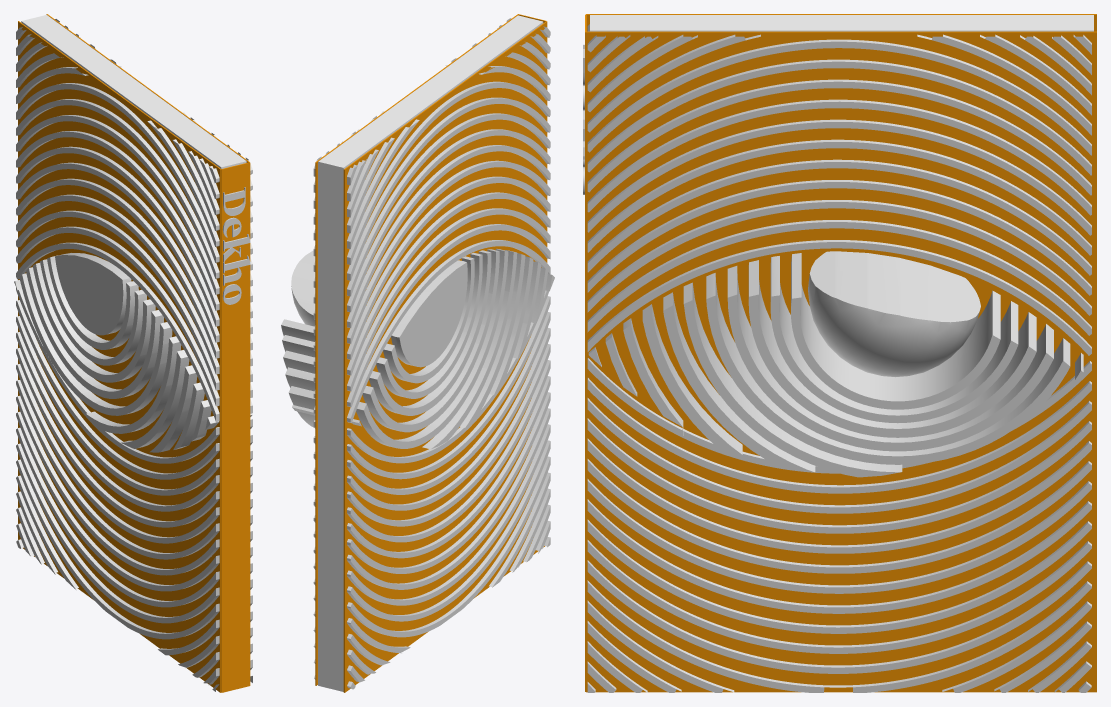
Rendered from dekho6.glb.
The picture shows the model from 3 angles, left to right: view 1: azimuth 30°, elevation 25°; view 2: azimuth 150°, elevation 25°; view 3: azimuth 270°, elevation 25°; orthographic projection. The views are drawn at different scales.
Visible parts, largest first — view 1: Eyes 0.1 (×2), Cube.2, Cube.3, Extrude.2 (×2), Tube.6, Cube.1, Cube (×3); view 2: Eyes 0.1, Cube.2, Cube.1, Extrude.2 (×2), Tube.6, Boole, Cube (×2); view 3: Cube, Eyes 0.1, Boole, Cube.1.
Part boxes in pixels (x1,y1,x2,y2): Eyes 0.1 (×2): (16,19,252,691); Cube.2: (18,21,221,692); Cube.3: (221,162,250,692); Extrude.2 (×2): (14,253,218,452); Tube.6: (15,255,218,451); Cube.1: (21,15,246,168); Cube (×3): (46,14,252,676); Eyes 0.1: (347,26,550,689); Cube.2: (343,21,547,692); Cube.1: (318,15,543,691); Extrude.2 (×2): (352,249,554,448); Tube.6: (356,249,552,449); Boole: (281,250,315,427); Cube (×2): (315,14,518,685); Cube: (586,31,1096,692); Eyes 0.1: (587,34,1091,692); Boole: (588,251,1083,477); Cube.1: (590,15,1093,31).
Bounding box in the file's own units: 0.4186 × 1.58 × 1.11.
